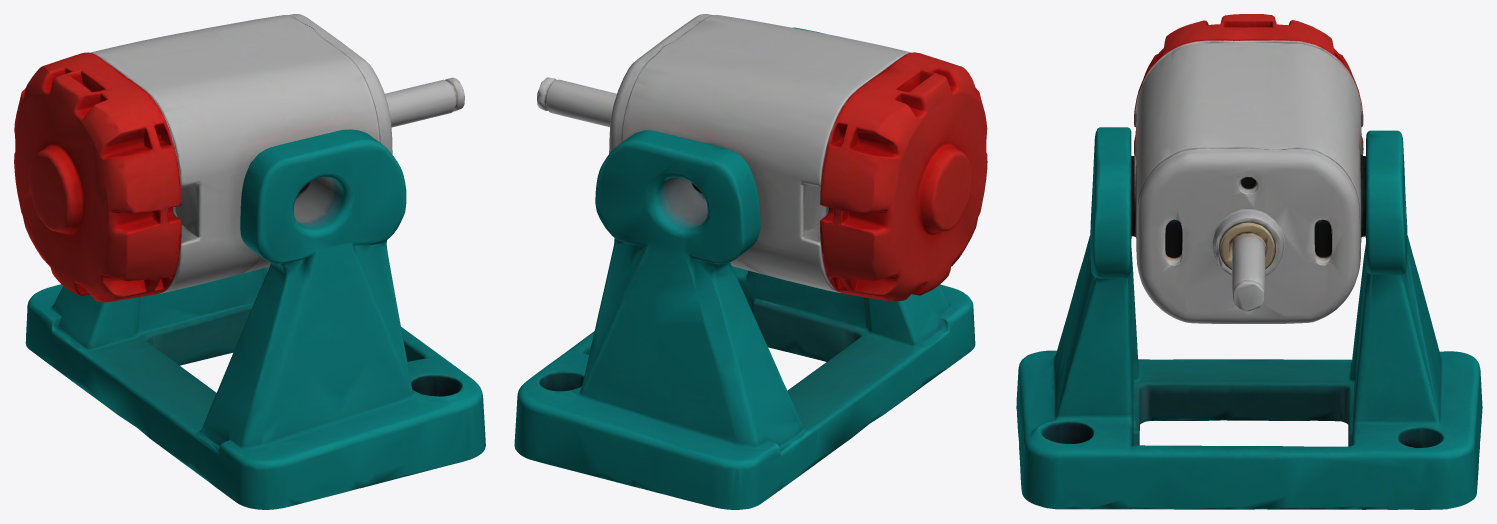
Rendered from motor.glb.
The picture shows the model from 3 angles, left to right: view 1: azimuth 30°, elevation 25°; view 2: azimuth 150°, elevation 25°; view 3: azimuth 270°, elevation 25°; orthographic projection. The views are drawn at different scales.
Visible parts, largest first — view 1: tripo_node_5f20d64b-5857-4295-a475-9faee104aa12; view 2: tripo_node_5f20d64b-5857-4295-a475-9faee104aa12; view 3: tripo_node_5f20d64b-5857-4295-a475-9faee104aa12.
Part boxes in pixels (bbox=[...]): tripo_node_5f20d64b-5857-4295-a475-9faee104aa12: bbox=[14, 14, 485, 509]; tripo_node_5f20d64b-5857-4295-a475-9faee104aa12: bbox=[514, 14, 987, 509]; tripo_node_5f20d64b-5857-4295-a475-9faee104aa12: bbox=[1016, 14, 1482, 509].
Size of the model in its own units: 0.9808 by 0.8199 by 1.
Materials: 1 (1 with a texture image).
